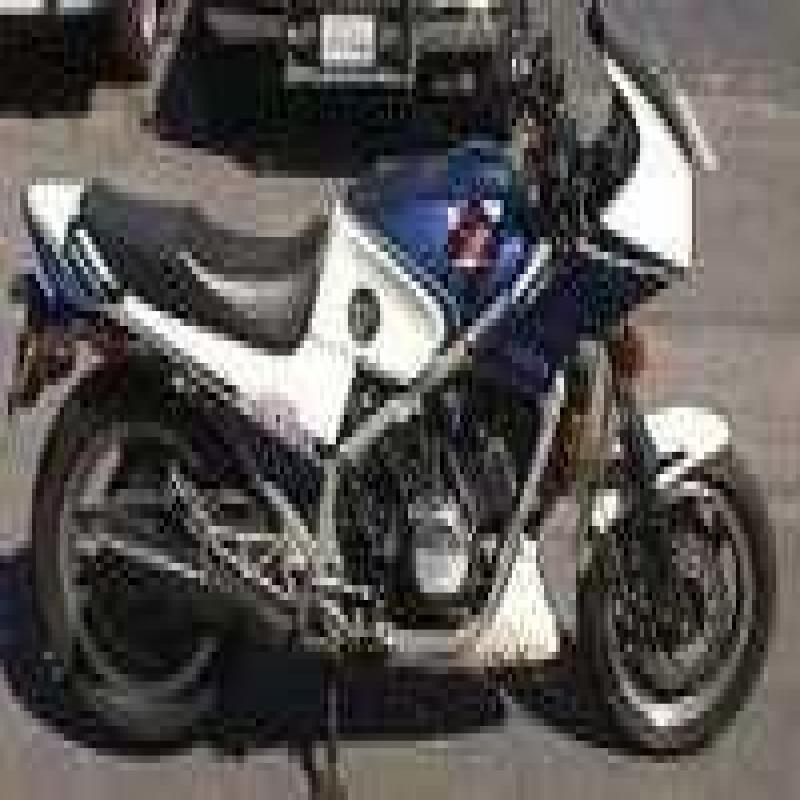bike: (23, 42, 693, 752)
